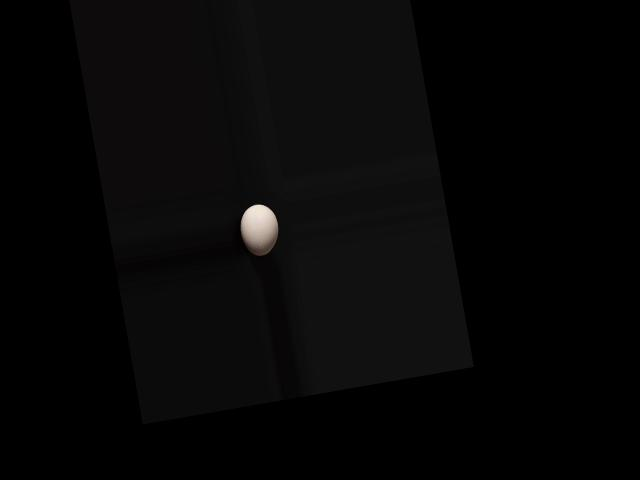egg: (236, 200, 282, 258)
